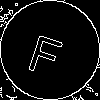F: (25, 25, 68, 78)
